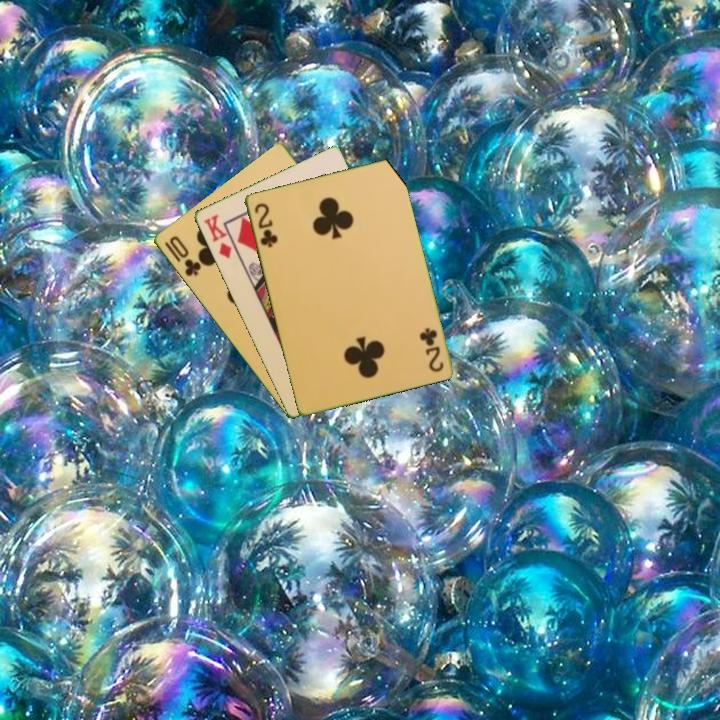10c: (165, 232, 204, 279)
2c: (250, 199, 280, 250), (417, 324, 446, 375)
Kd: (199, 210, 235, 262)
